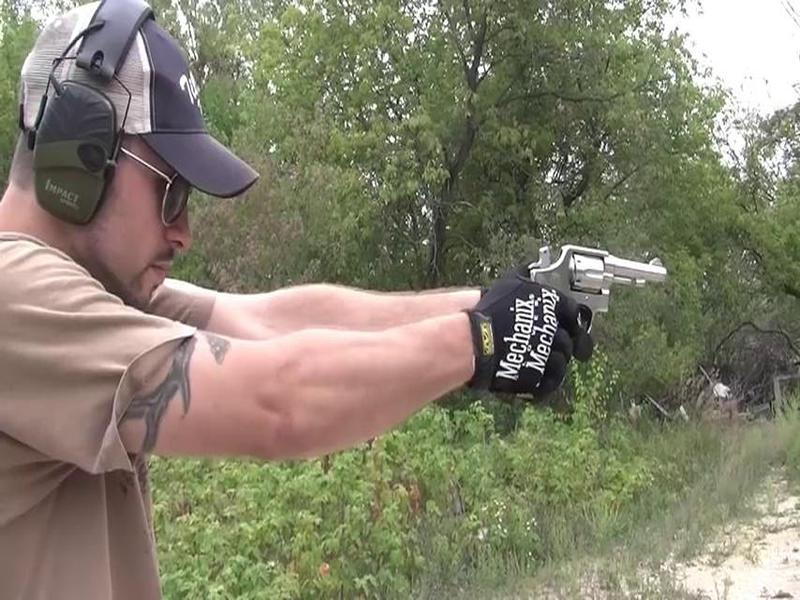Revolver: (518, 224, 688, 375)
